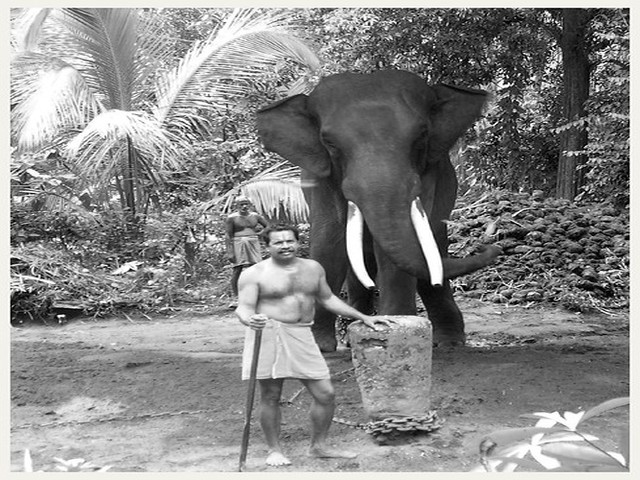Elephant: (252, 64, 499, 317)
Person: (239, 226, 361, 462), (228, 194, 269, 256)
